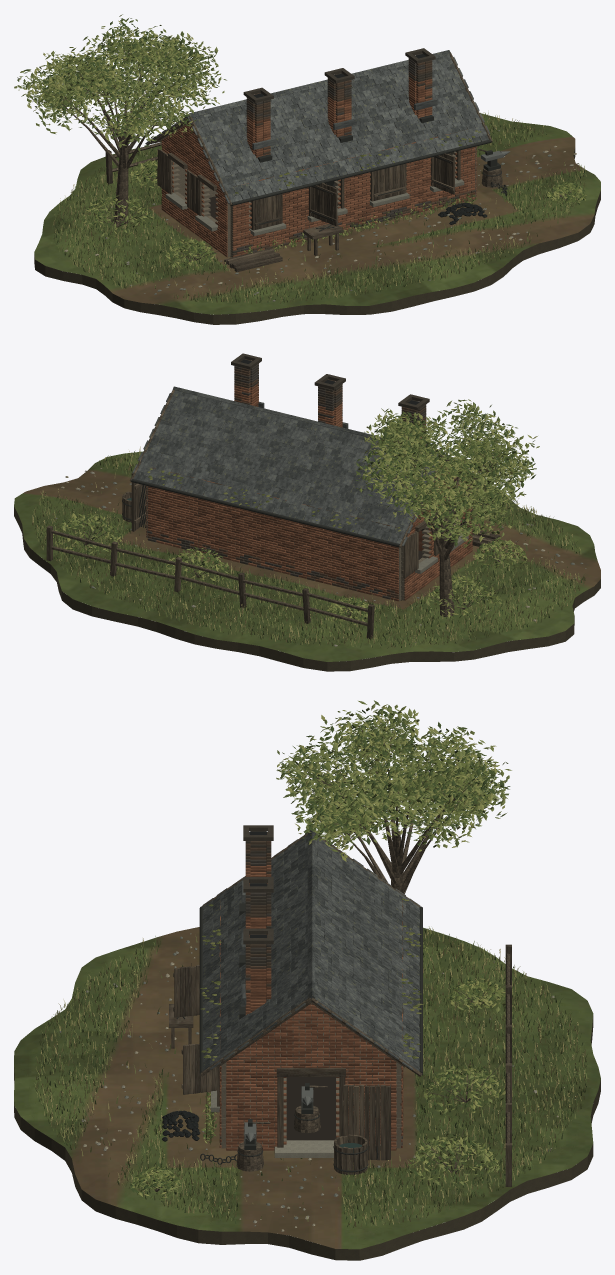
The model's file is mushroom-green-forge.glb.
3 renders of one model, top to bottom at view 1: azimuth 30°, elevation 25°; view 2: azimuth 150°, elevation 25°; view 3: azimuth 270°, elevation 25°, orthographic. The views are drawn at different scales.
Parts seen in each view (by area): view 1: Ground | Turf and trodden earth, Earth edge | Earth cut, Foliage | Leaf 02, Foliage | Leaf 01, Foliage | Leaf 00, Foliage | Leaf 04, Foliage | Leaf 03, Roof tiles | Weathered slate 05, Roof tiles | Weathered slate 02, Roof tiles | Weathered slate 03, Roof tiles | Weathered slate 01, Roof tiles | Weathered slate 00 (+39 smaller); view 2: Ground | Turf and trodden earth, Earth edge | Earth cut, Foliage | Leaf 04, Foliage | Leaf 00, Foliage | Leaf 01, Foliage | Leaf 03, Foliage | Leaf 02, Roof tiles | Weathered slate 00, Roof tiles | Weathered slate 01, Roof tiles | Weathered slate 02, Roof tiles | Weathered slate 03, Meadow | Meadow blade 03 (+33 smaller); view 3: Ground | Turf and trodden earth, Foliage | Leaf 02, Foliage | Leaf 04, Foliage | Leaf 00, Foliage | Leaf 01, Earth edge | Earth cut, Foliage | Leaf 03, Meadow | Meadow blade 03, Meadow | Meadow blade 04, Meadow | Meadow blade 02, Meadow | Meadow blade 01, Roof tiles | Weathered slate 02 (+38 smaller).
Boxes of the visible parts, bbox=[...] form: Ground | Turf and trodden earth: bbox=[34, 113, 600, 314]; Earth edge | Earth cut: bbox=[34, 148, 600, 324]; Foliage | Leaf 02: bbox=[14, 14, 585, 268]; Foliage | Leaf 01: bbox=[14, 20, 585, 269]; Foliage | Leaf 00: bbox=[17, 18, 586, 269]; Foliage | Leaf 04: bbox=[19, 20, 586, 266]; Foliage | Leaf 03: bbox=[17, 18, 585, 267]; Roof tiles | Weathered slate 05: bbox=[208, 71, 490, 194]; Roof tiles | Weathered slate 02: bbox=[197, 65, 477, 203]; Roof tiles | Weathered slate 03: bbox=[145, 58, 482, 195]; Roof tiles | Weathered slate 01: bbox=[183, 52, 483, 199]; Roof tiles | Weathered slate 00: bbox=[152, 64, 468, 197]; Ground | Turf and trodden earth: bbox=[14, 451, 600, 661]; Earth edge | Earth cut: bbox=[14, 506, 600, 671]; Foliage | Leaf 04: bbox=[53, 406, 537, 625]; Foliage | Leaf 00: bbox=[55, 399, 536, 621]; Foliage | Leaf 01: bbox=[56, 399, 534, 622]; Foliage | Leaf 03: bbox=[53, 402, 535, 623]; Foliage | Leaf 02: bbox=[53, 401, 539, 623]; Roof tiles | Weathered slate 00: bbox=[140, 403, 437, 535]; Roof tiles | Weathered slate 01: bbox=[145, 390, 445, 540]; Roof tiles | Weathered slate 02: bbox=[132, 396, 437, 539]; Roof tiles | Weathered slate 03: bbox=[133, 392, 438, 546]; Meadow | Meadow blade 03: bbox=[36, 451, 583, 647]; Ground | Turf and trodden earth: bbox=[14, 927, 600, 1249]; Foliage | Leaf 02: bbox=[130, 703, 511, 1195]; Foliage | Leaf 04: bbox=[133, 704, 505, 1196]; Foliage | Leaf 00: bbox=[133, 700, 508, 1198]; Foliage | Leaf 01: bbox=[132, 701, 509, 1197]; Earth edge | Earth cut: bbox=[14, 1016, 600, 1260]; Foliage | Leaf 03: bbox=[130, 708, 510, 1195]; Meadow | Meadow blade 03: bbox=[32, 928, 587, 1227]; Meadow | Meadow blade 04: bbox=[35, 929, 588, 1226]; Meadow | Meadow blade 02: bbox=[34, 926, 586, 1227]; Meadow | Meadow blade 01: bbox=[35, 928, 587, 1226]; Roof tiles | Weathered slate 02: bbox=[202, 839, 419, 1070].
Size of the model in its own units: 19.74 by 6.91 by 14.42.
Materials: 33 (14 with a texture image).
